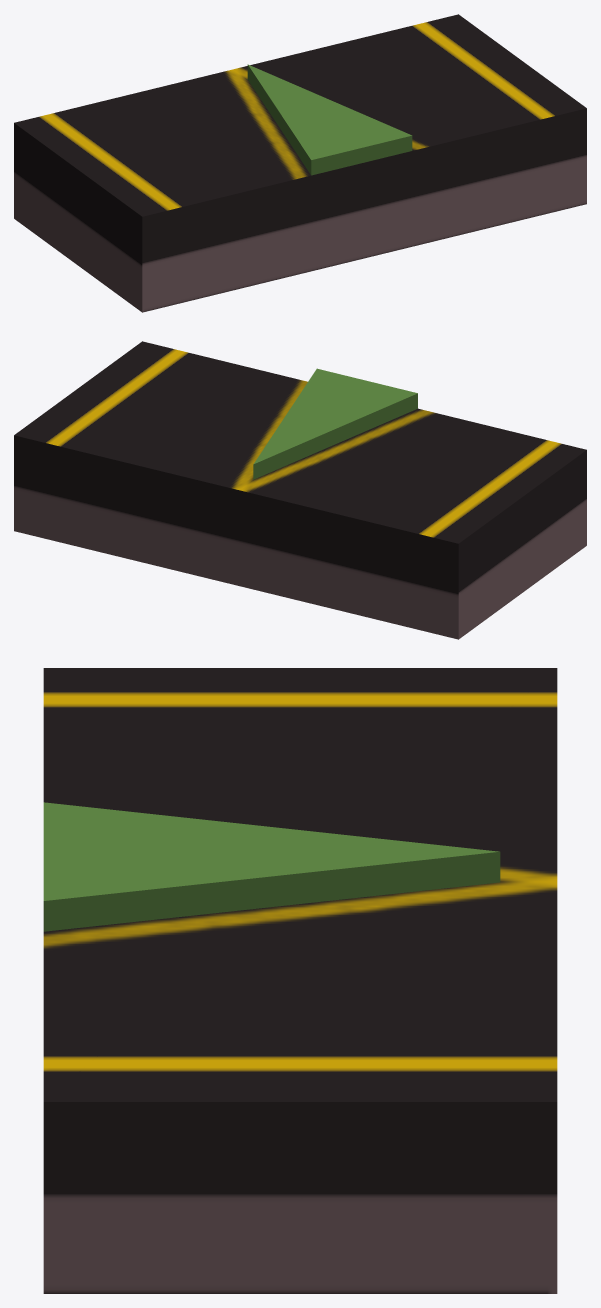
The model's file is roadStraight_divider_start.dae.
3 views of the same model, one above another, from view 1: azimuth 30°, elevation 25°; view 2: azimuth 150°, elevation 25°; view 3: azimuth 270°, elevation 25° (orthographic). The views are drawn at different scales.
Parts seen in each view (by area): view 1: roadStraight_divider_start; view 2: roadStraight_divider_start; view 3: roadStraight_divider_start.
Boxes of the visible parts, <box> form: roadStraight_divider_start: <box>14,14,586,312</box>; roadStraight_divider_start: <box>14,341,586,639</box>; roadStraight_divider_start: <box>43,668,557,1293</box>.
Bounding box in the file's own units: 2000 × 478 × 1000.
